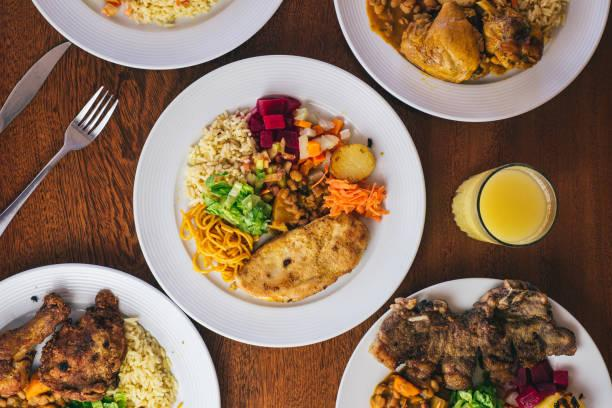Braised Crucian Carp: (136, 54, 423, 348), (332, 279, 612, 408), (337, 0, 607, 121), (0, 263, 225, 408)
